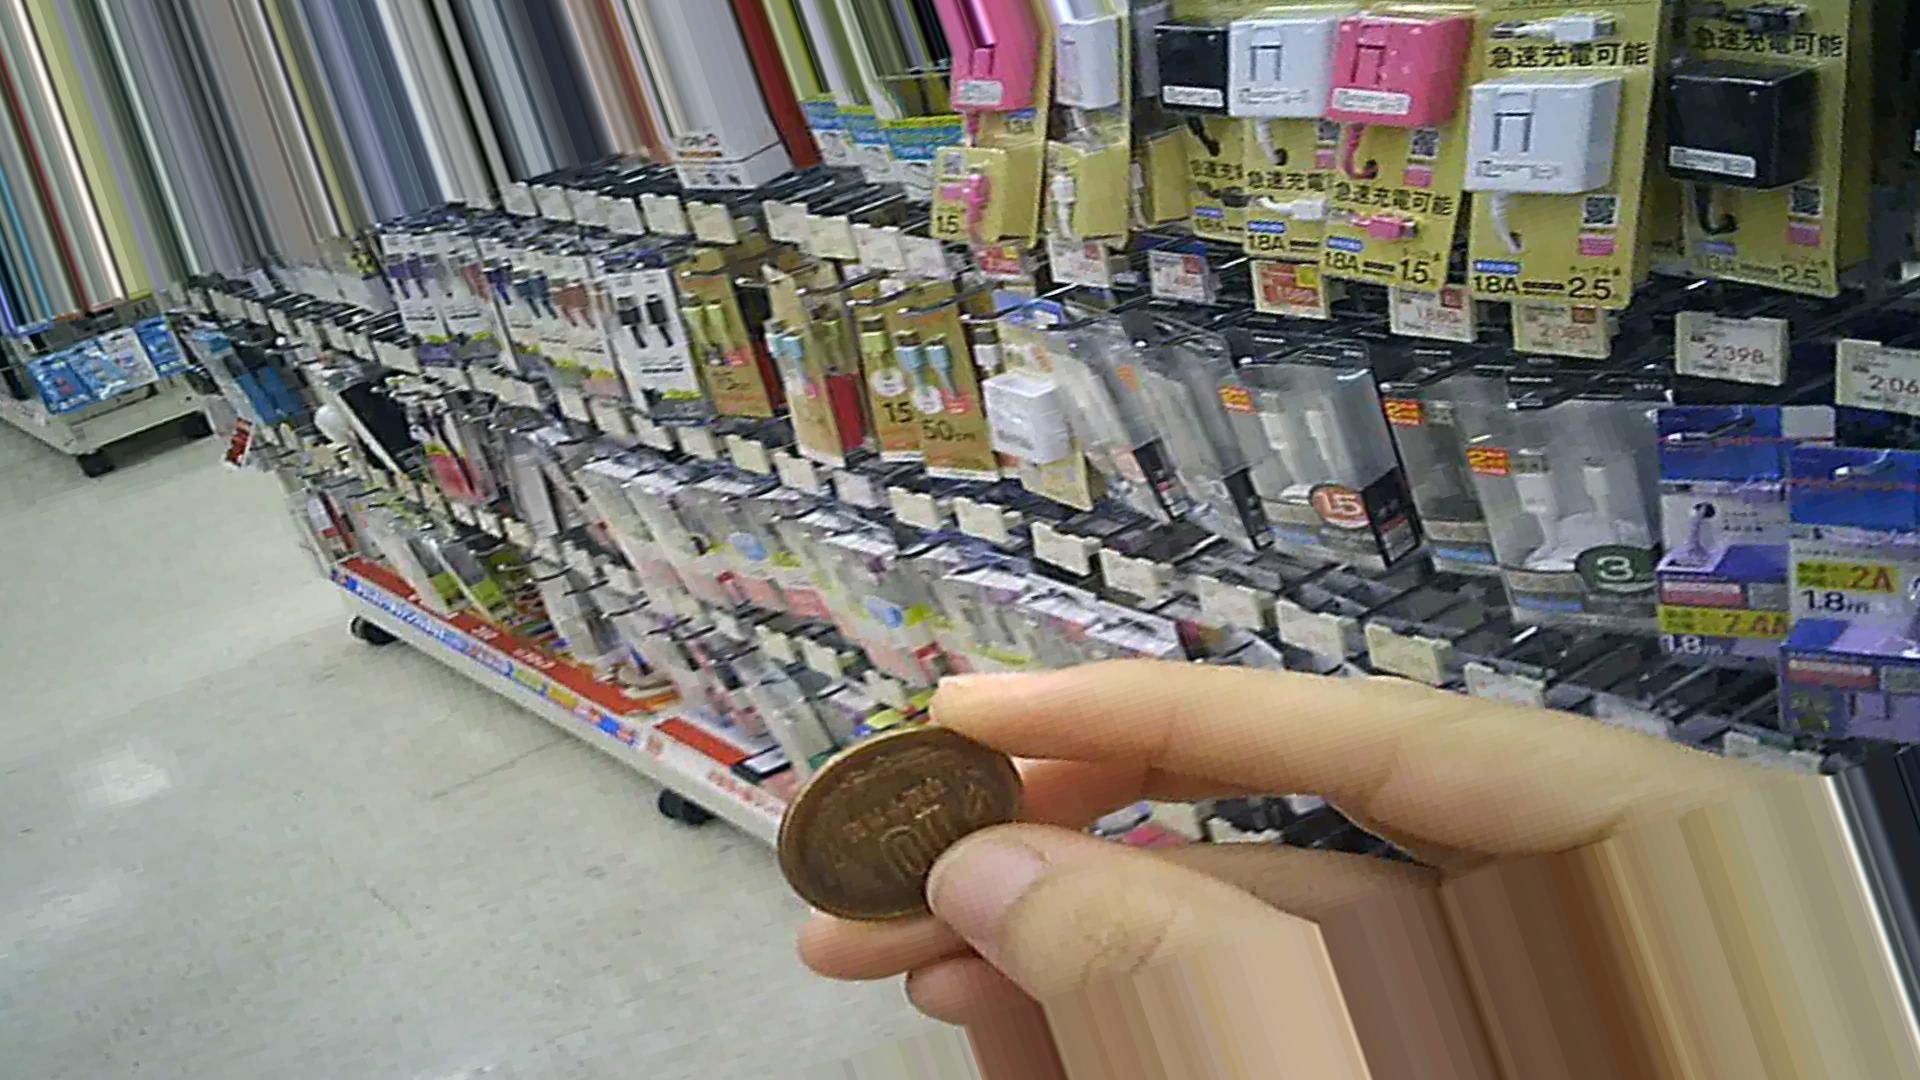10 Yen: (767, 705, 1043, 940)
